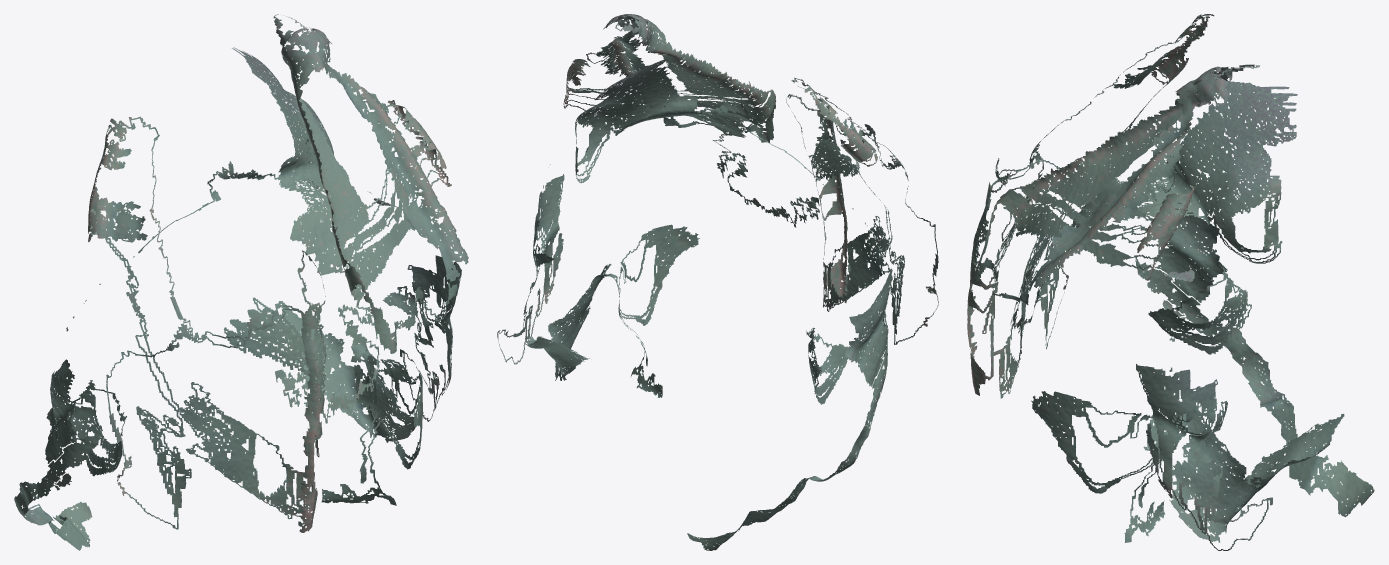
The model's file is cthulhu17_material_0.006_lev1.glb.
The picture shows the model from 3 angles, left to right: view 1: azimuth 30°, elevation 25°; view 2: azimuth 150°, elevation 25°; view 3: azimuth 270°, elevation 25°; orthographic projection. The views are drawn at different scales.
Visible parts, largest first — view 1: cthulhu17_material_0.006_lev1; view 2: cthulhu17_material_0.006_lev1; view 3: cthulhu17_material_0.006_lev1.
Boxes of the visible parts, left/top/right/bottom form: cthulhu17_material_0.006_lev1: left=14, top=14, right=468, bottom=550; cthulhu17_material_0.006_lev1: left=497, top=14, right=938, bottom=550; cthulhu17_material_0.006_lev1: left=967, top=14, right=1374, bottom=550.
Size of the model in its own units: 2.73 by 3.41 by 2.41.
